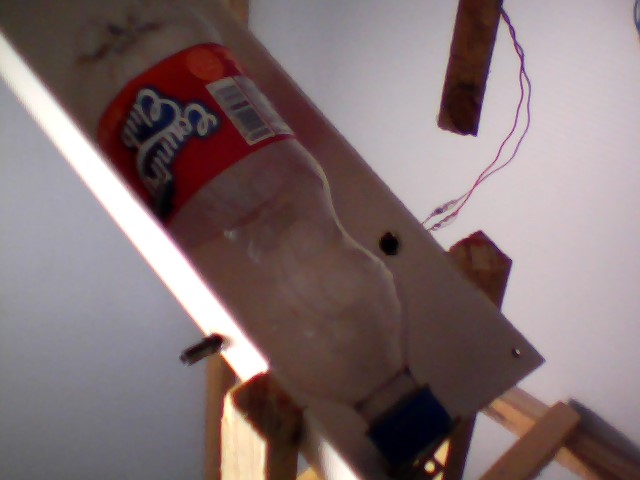plastico: (53, 1, 456, 467)
